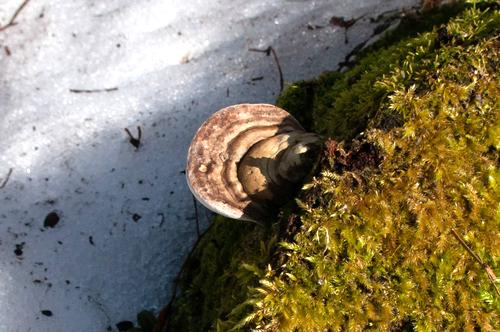Ganoderma - Fruit Body: (189, 100, 302, 224)
